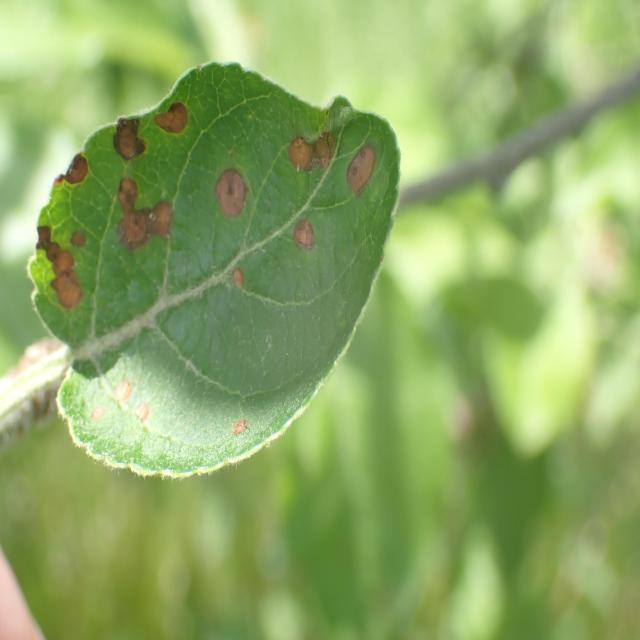Black Rot: (106, 165, 179, 262), (31, 215, 102, 312), (47, 130, 99, 218), (88, 371, 153, 437), (108, 92, 152, 164), (216, 154, 256, 230), (284, 122, 336, 180), (340, 142, 383, 208), (151, 88, 188, 160), (288, 209, 322, 265), (223, 411, 255, 458), (226, 253, 248, 313)
